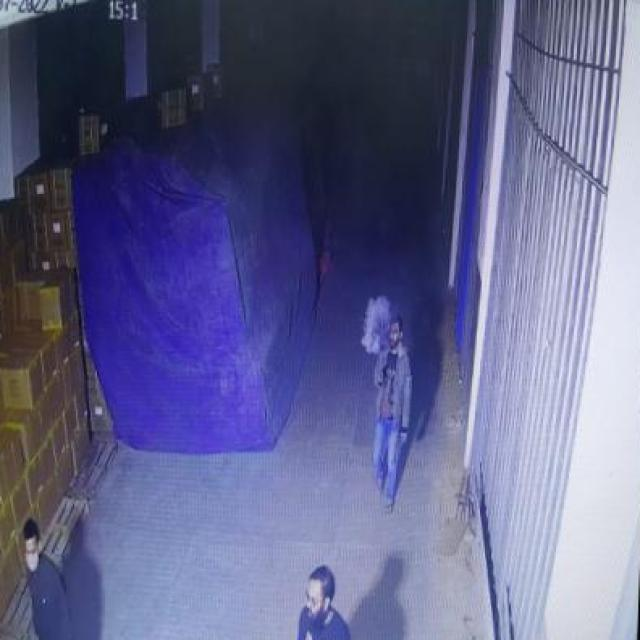fire: (359, 286, 396, 360)
